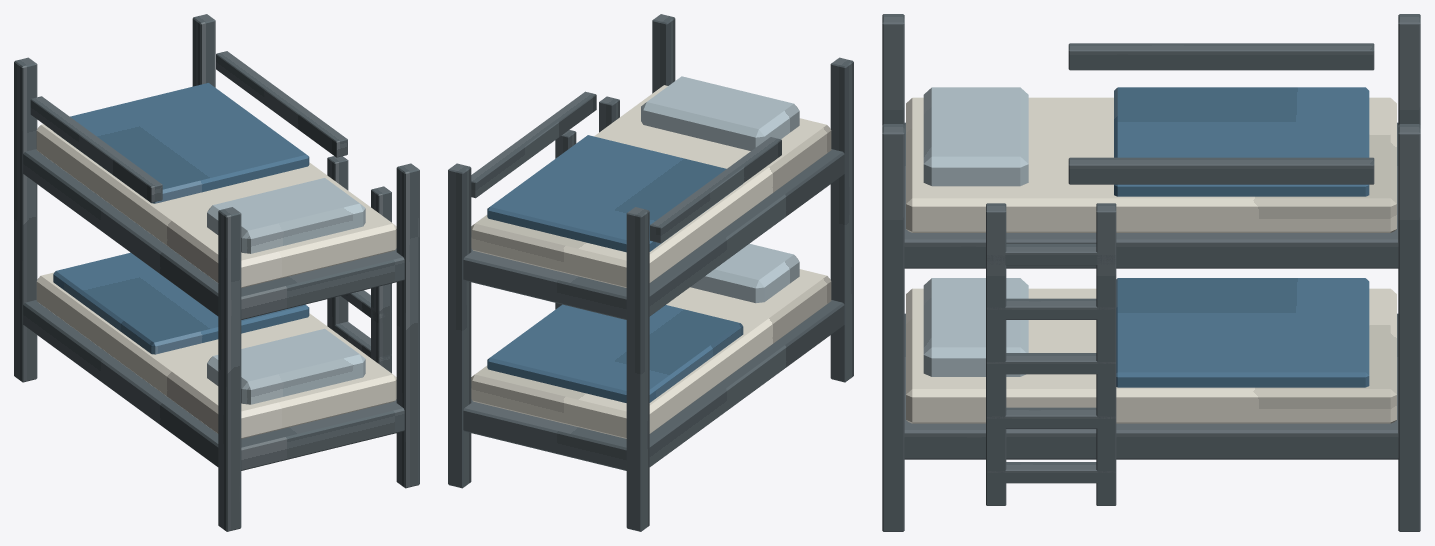
Rendered from bunk_bed_metal.glb.
3 renders of one model, left to right at view 1: azimuth 30°, elevation 25°; view 2: azimuth 150°, elevation 25°; view 3: azimuth 270°, elevation 25°, orthographic. The views are drawn at different scales.
Parts seen in each view (by area): view 1: Blanket_1, Mattress_1, Mattress_0, BedFrame_1, BedFrame_0, Blanket_0, Post_-0.52_-1.03, Post_0.52_-1.03, Pillow_1, Pillow_0, Post_-0.52_1.03, GuardRail_-0.54 (+6 smaller); view 2: Mattress_1, Blanket_1, Mattress_0, Blanket_0, BedFrame_1, BedFrame_0, Post_-0.52_1.03, Pillow_1, Post_0.52_1.03, Post_-0.52_-1.03, Pillow_0, GuardRail_-0.54 (+3 smaller); view 3: Mattress_1, Blanket_0, Mattress_0, Blanket_1, BedFrame_0, BedFrame_1, Pillow_1, Post_0.52_1.03, Post_0.52_-1.03, GuardRail_0.54, GuardRail_-0.54, Pillow_0 (+9 smaller).
Part boxes in pixels (left/top/right/bottom): Blanket_1: left=54, top=83, right=309, bottom=203; Mattress_1: left=36, top=124, right=396, bottom=287; Mattress_0: left=36, top=272, right=396, bottom=438; BedFrame_1: left=23, top=149, right=404, bottom=319; BedFrame_0: left=23, top=300, right=404, bottom=470; Blanket_0: left=53, top=252, right=309, bottom=354; Post_-0.52_-1.03: left=218, top=207, right=241, bottom=531; Post_0.52_-1.03: left=396, top=163, right=419, bottom=488; Pillow_1: left=207, top=178, right=365, bottom=253; Pillow_0: left=207, top=328, right=365, bottom=404; Post_-0.52_1.03: left=14, top=57, right=37, bottom=382; GuardRail_-0.54: left=30, top=96, right=162, bottom=202; Mattress_1: left=471, top=85, right=831, bottom=287; Blanket_1: left=487, top=135, right=742, bottom=252; Mattress_0: left=471, top=269, right=831, bottom=438; Blanket_0: left=487, top=304, right=743, bottom=402; BedFrame_1: left=463, top=149, right=844, bottom=319; BedFrame_0: left=463, top=300, right=844, bottom=470; Post_-0.52_1.03: left=626, top=207, right=649, bottom=531; Pillow_1: left=641, top=76, right=799, bottom=150; Post_0.52_1.03: left=448, top=163, right=471, bottom=488; Post_-0.52_-1.03: left=830, top=57, right=853, bottom=382; Pillow_0: left=690, top=243, right=799, bottom=303; GuardRail_-0.54: left=650, top=137, right=781, bottom=243; Mattress_1: left=906, top=97, right=1396, bottom=232; Blanket_0: left=1116, top=278, right=1369, bottom=387; Mattress_0: left=906, top=288, right=1396, bottom=423; Blanket_1: left=1114, top=87, right=1369, bottom=196; BedFrame_0: left=904, top=313, right=1398, bottom=459; BedFrame_1: left=904, top=122, right=1398, bottom=268; Pillow_1: left=923, top=87, right=1028, bottom=186; Post_0.52_1.03: left=1398, top=124, right=1420, bottom=531; Post_0.52_-1.03: left=882, top=124, right=904, bottom=531; GuardRail_0.54: left=1068, top=157, right=1374, bottom=184; GuardRail_-0.54: left=1068, top=43, right=1374, bottom=70; Pillow_0: left=923, top=278, right=1028, bottom=376.
Size of the model in its own units: 1.22 by 1.76 by 2.15.
1 material, 1 textured.
